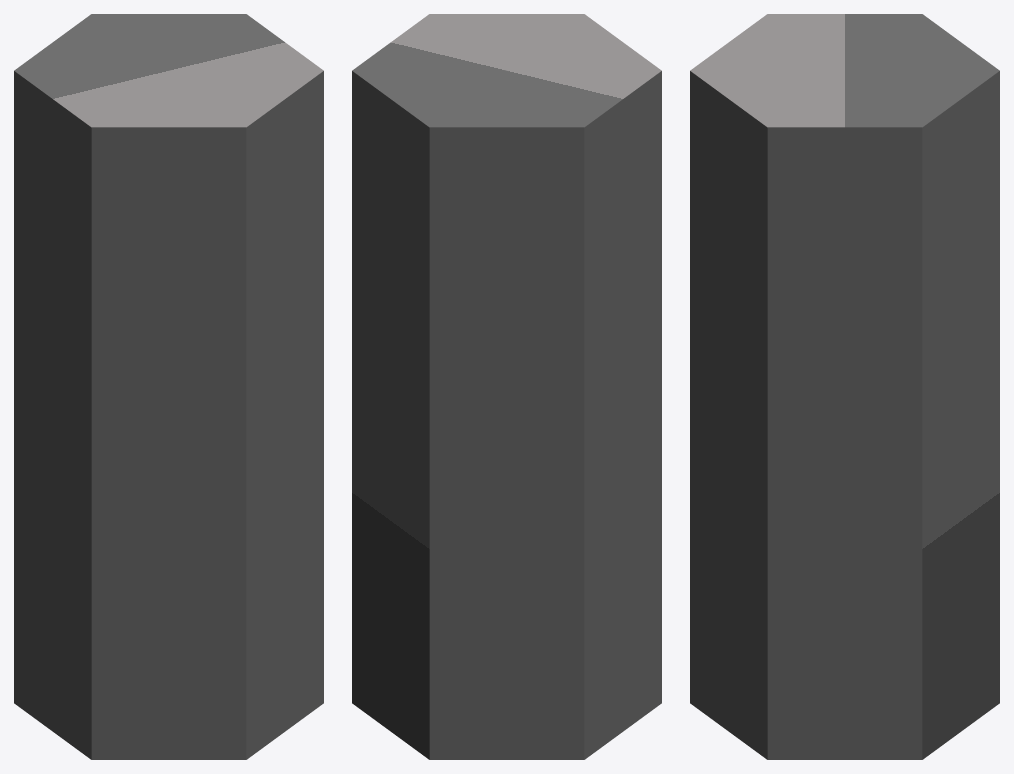
Rendered from body_pin.obj.
The picture shows the model from 3 angles, left to right: view 1: azimuth 30°, elevation 25°; view 2: azimuth 150°, elevation 25°; view 3: azimuth 270°, elevation 25°; orthographic projection.
Parts seen in each view (by area): view 1: 构体轴_46dda5cf-49bd-a150-a028-0c5be1c90223; view 2: 构体轴_46dda5cf-49bd-a150-a028-0c5be1c90223; view 3: 构体轴_46dda5cf-49bd-a150-a028-0c5be1c90223.
Boxes of the visible parts, x1,y1,x2,y2 form: 构体轴_46dda5cf-49bd-a150-a028-0c5be1c90223: [14, 14, 323, 759]; 构体轴_46dda5cf-49bd-a150-a028-0c5be1c90223: [352, 14, 661, 759]; 构体轴_46dda5cf-49bd-a150-a028-0c5be1c90223: [690, 14, 999, 759].
Bounding box in the file's own units: 0.0625 × 0.1625 × 0.0722.
